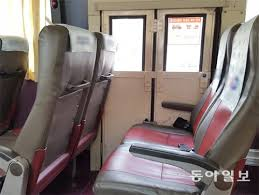seat: (116, 110, 214, 194)
